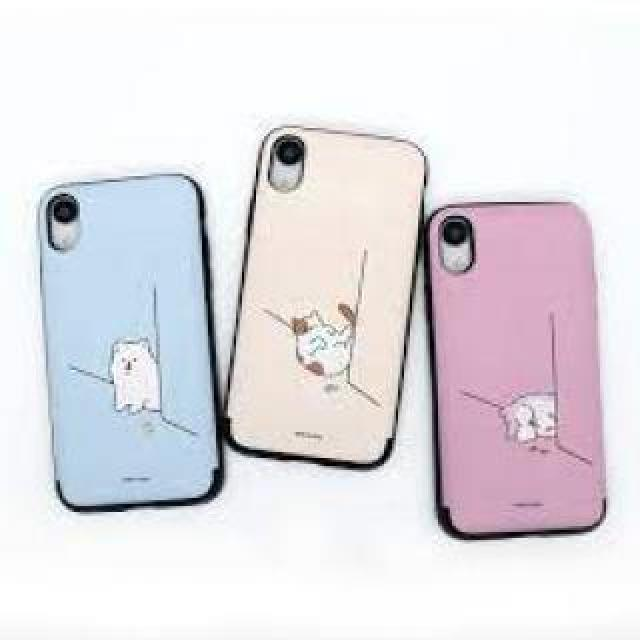smart phone: (416, 193, 626, 565), (20, 174, 228, 538), (238, 119, 405, 494)
